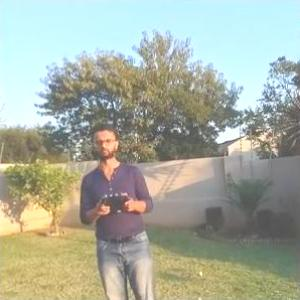follow: (77, 119, 163, 299)
